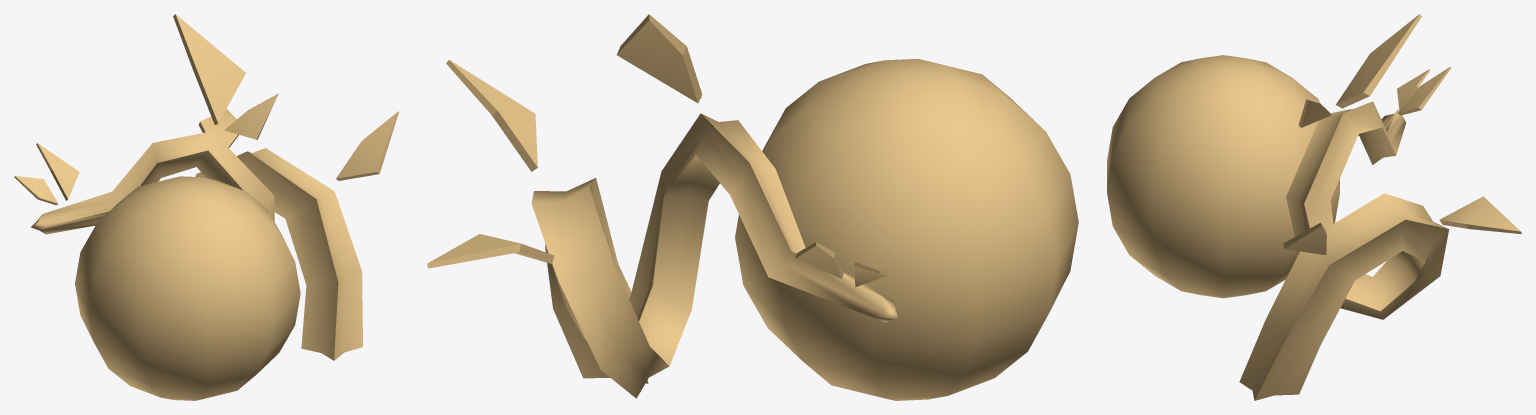
Rendered from starPlant_stage3.fbx.
The picture shows the model from 3 angles, left to right: view 1: azimuth 30°, elevation 25°; view 2: azimuth 150°, elevation 25°; view 3: azimuth 270°, elevation 25°; orthographic projection. The views are drawn at different scales.
Visible parts, largest first — view 1: starPlant_stem1, starPlant_stem, starPlant_stem3, starPlant_stem4; view 2: starPlant_stem1, starPlant_stem, starPlant_stem3; view 3: starPlant_stem1, starPlant_stem, starPlant_stem3, starPlant_stem4.
Part boxes in pixels (x1,y1,x2,y2): starPlant_stem1: [31, 14, 362, 400]; starPlant_stem: [199, 109, 398, 180]; starPlant_stem3: [36, 143, 79, 200]; starPlant_stem4: [14, 176, 58, 205]; starPlant_stem1: [531, 14, 1078, 400]; starPlant_stem: [427, 60, 554, 268]; starPlant_stem3: [795, 242, 843, 278]; starPlant_stem1: [1107, 14, 1449, 400]; starPlant_stem: [1283, 196, 1521, 254]; starPlant_stem3: [1397, 66, 1450, 115]; starPlant_stem4: [1397, 69, 1430, 110].
Size of the model in its own units: 85.48 by 69.96 by 80.11.
